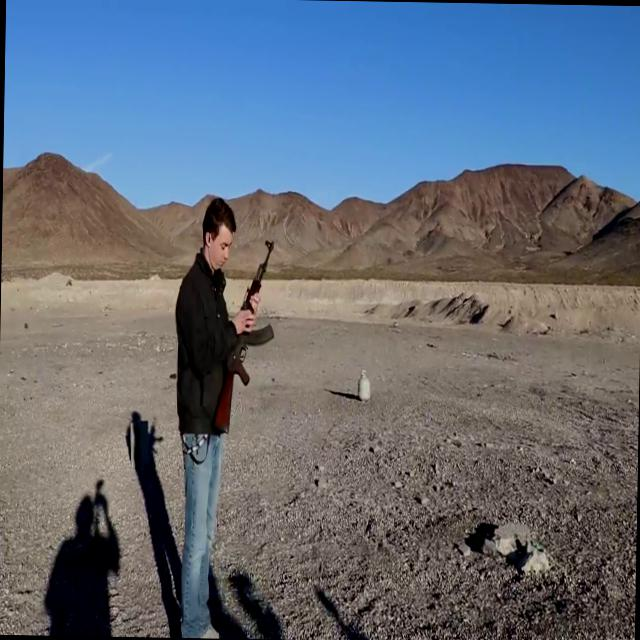long weapon: (212, 219, 292, 437)
